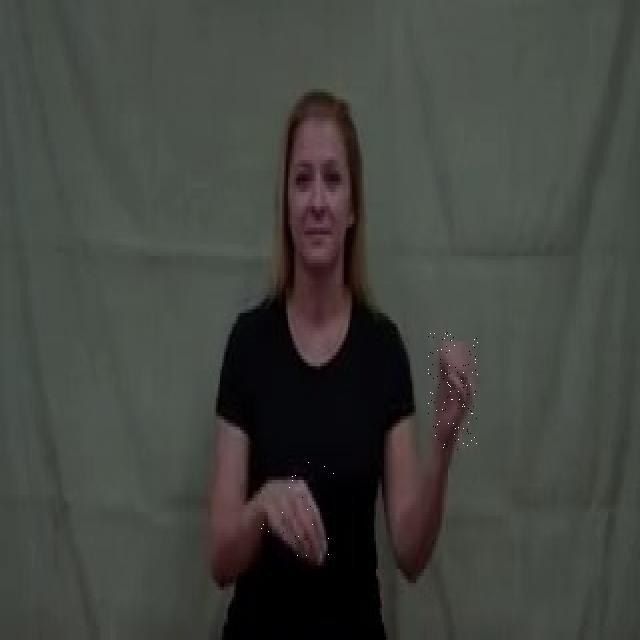ingredients: (258, 462, 334, 570), (428, 332, 478, 450)
